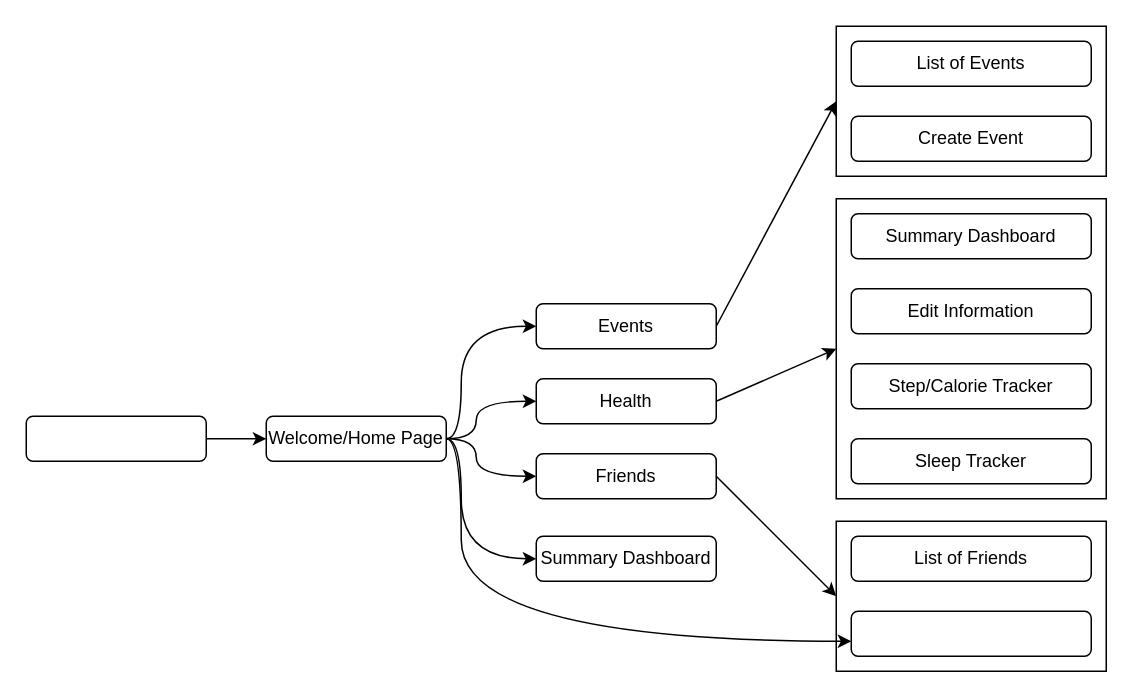
Some shapes in this 1133 by 698 pixel diagram are drawn without their labels. Here are the shapes that lost their labels. From the top down, the centre of each, then its label:
At [115,438]: "Login/Registration".
At [970,633]: "Profile".
